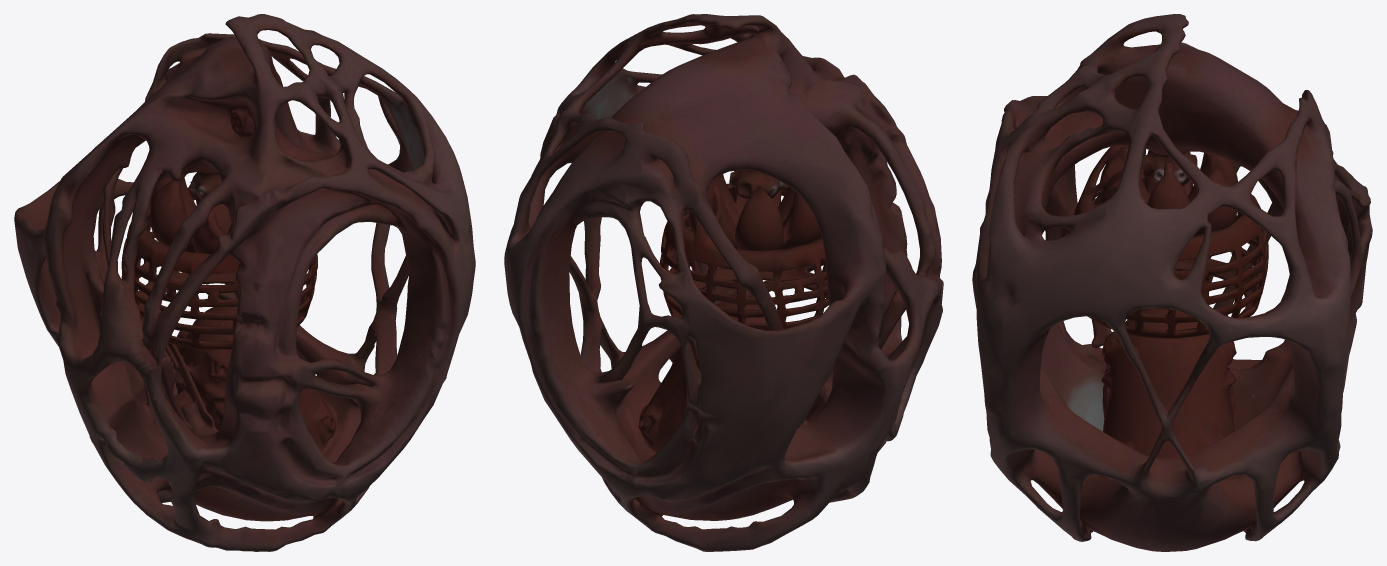
Rendered from enemy_simonit.glb.
3 renders of one model, left to right at view 1: azimuth 30°, elevation 25°; view 2: azimuth 150°, elevation 25°; view 3: azimuth 270°, elevation 25°, orthographic. The views are drawn at different scales.
Visible parts, largest first — view 1: tripo_node_ce9f741d-3a3d-4583-bafe-5d8bc1a474ca; view 2: tripo_node_ce9f741d-3a3d-4583-bafe-5d8bc1a474ca; view 3: tripo_node_ce9f741d-3a3d-4583-bafe-5d8bc1a474ca.
Part boxes in pixels (<box>): tripo_node_ce9f741d-3a3d-4583-bafe-5d8bc1a474ca: <box>14,14,475,551</box>; tripo_node_ce9f741d-3a3d-4583-bafe-5d8bc1a474ca: <box>504,14,943,551</box>; tripo_node_ce9f741d-3a3d-4583-bafe-5d8bc1a474ca: <box>972,14,1372,551</box>.
Size of the model in its own units: 0.7267 by 0.9803 by 0.6847.
1 material, 1 textured.
